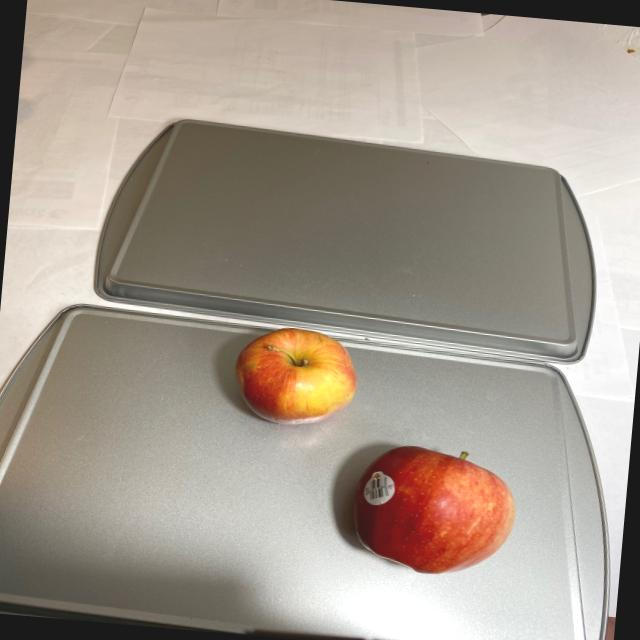apple: (344, 430, 520, 580), (224, 322, 366, 431)
